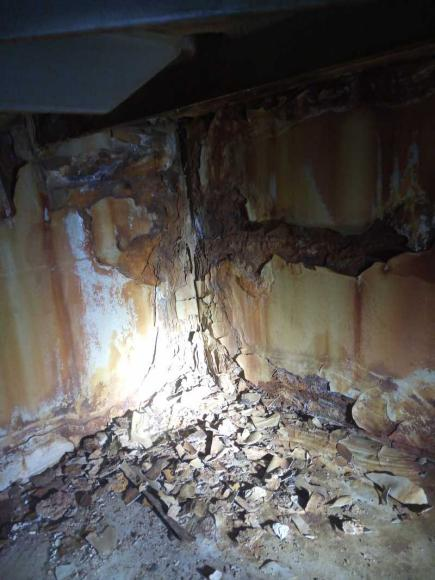corrosion: (188, 81, 435, 418), (18, 127, 188, 289), (0, 140, 83, 439), (186, 205, 435, 292), (122, 286, 163, 338)
